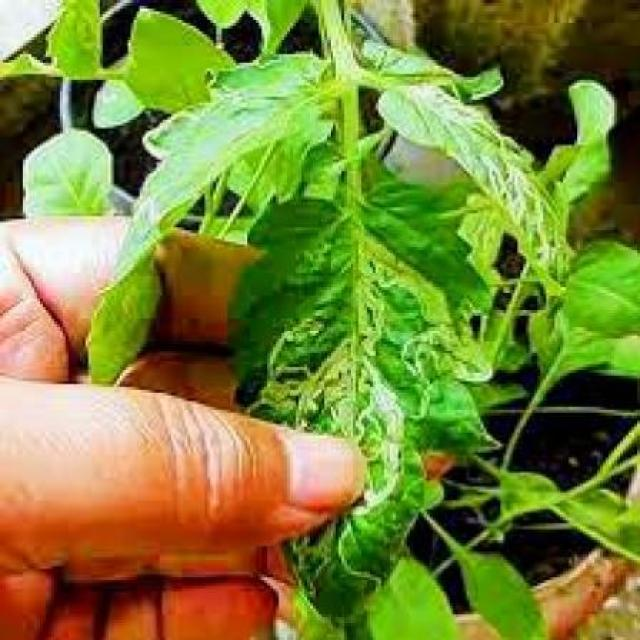Leaf Miner: (228, 169, 493, 624)
